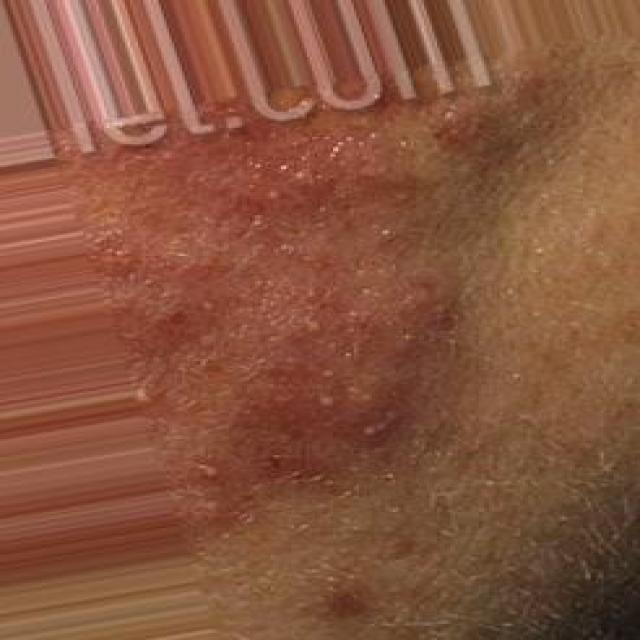Rosacea: (88, 140, 448, 486)
